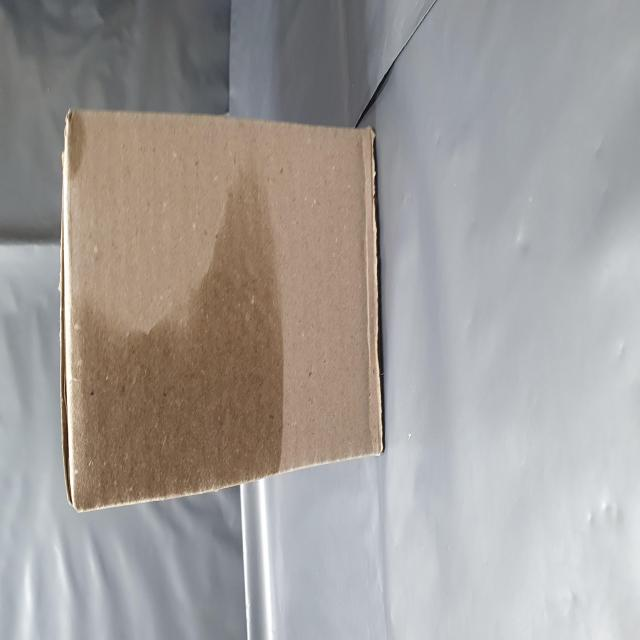wet: (66, 117, 259, 524)
